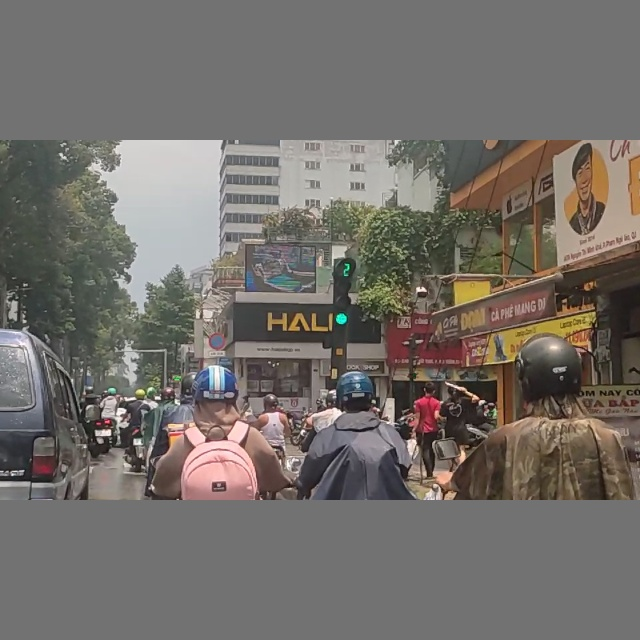P.131a: (207, 332, 226, 351)
